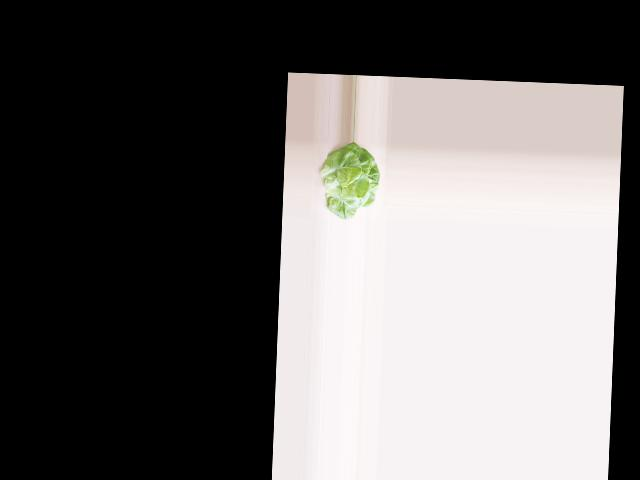lettuce: (320, 142, 381, 218)
